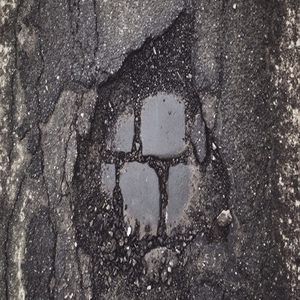pothole: (70, 8, 238, 271)
